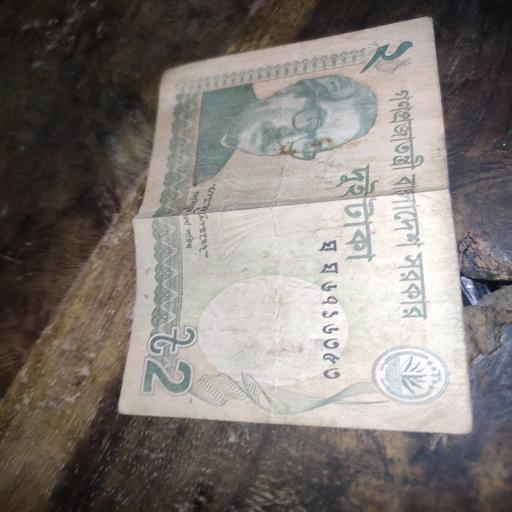2taka: (114, 17, 473, 431)
